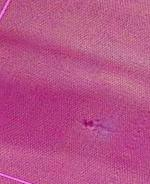knot: (82, 113, 100, 136)
